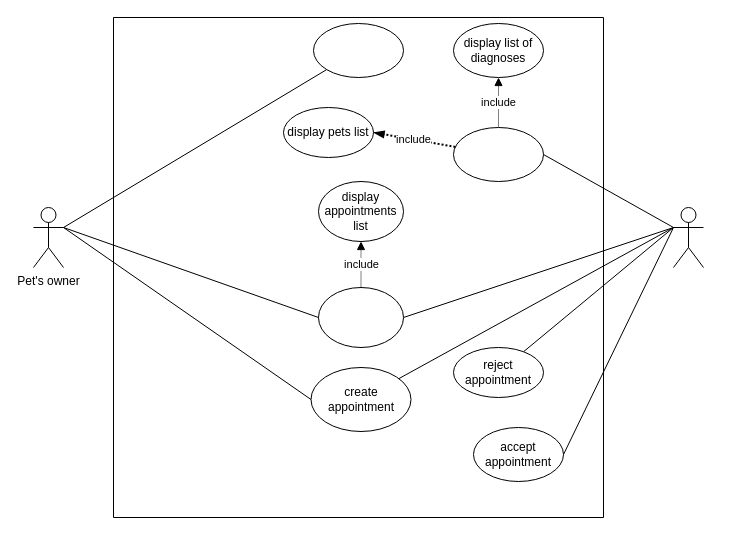
Some shapes in this 737 by 535 pixel diagram are drawn without their labels. The centre of each missing label's shape, as x and y in pixels:
add diagnoses: point (498, 154)
add pet: point (358, 50)
cancel appointment: point (361, 317)
Veterinarian: point (688, 237)
